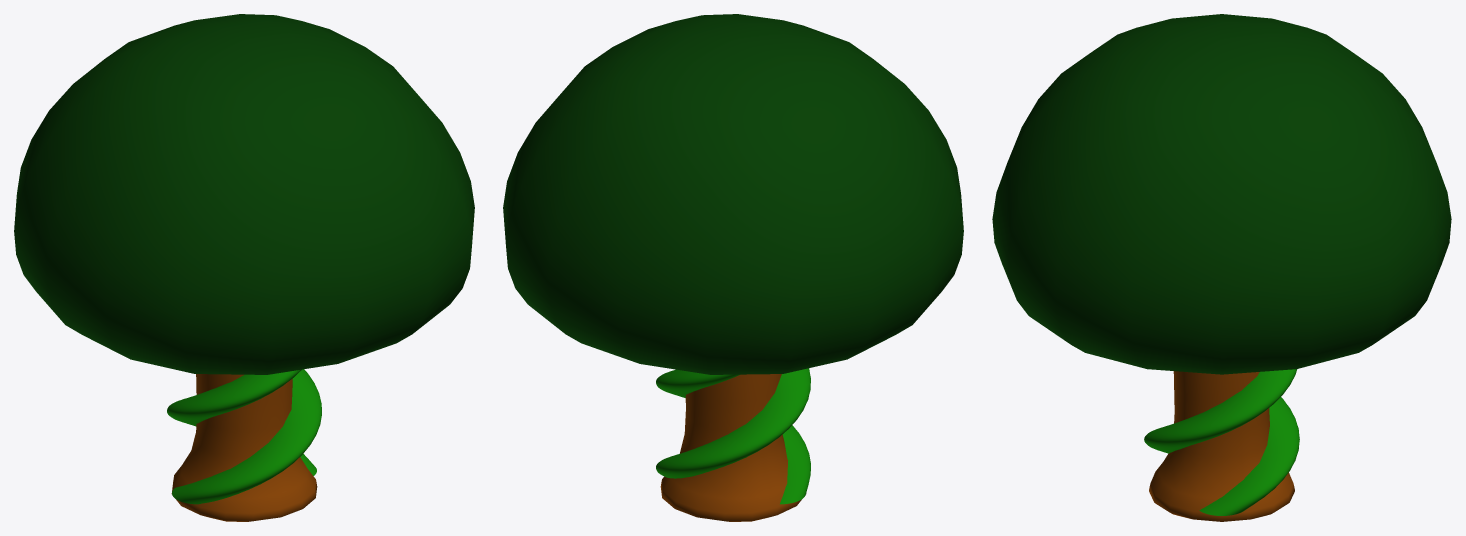
File: giant_tree.fbx
3 views of the same model, side by side, from view 1: azimuth 30°, elevation 25°; view 2: azimuth 150°, elevation 25°; view 3: azimuth 270°, elevation 25° (orthographic).
Visible parts, largest first — view 1: tree, snake; view 2: tree, snake; view 3: tree, snake.
Part boxes in pixels (x1,y1,x2,y2): tree: (14,14,474,521); snake: (167,369,321,504); tree: (503,14,963,521); snake: (656,368,810,504); tree: (992,14,1451,521); snake: (1144,369,1299,515).
Bounding box in the file's own units: 1727 × 1906 × 1727.
